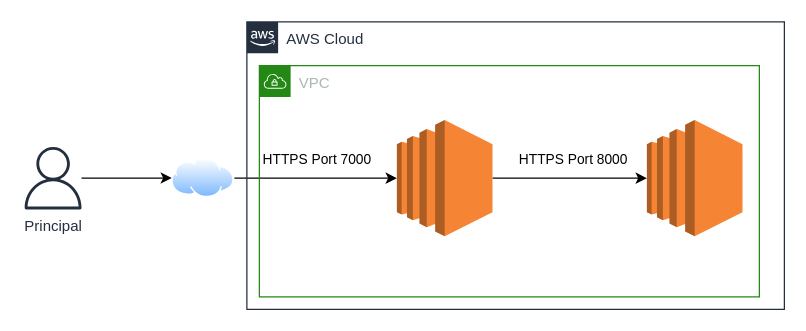
The diagram is 806 pixels wide and 331 high, and some of its shapes have lost their labels. Here are the shapes that lost their labels. From the top down, the centre of each, then its label:
the point at 444,177: LoginService
the point at 694,177: TimeService
